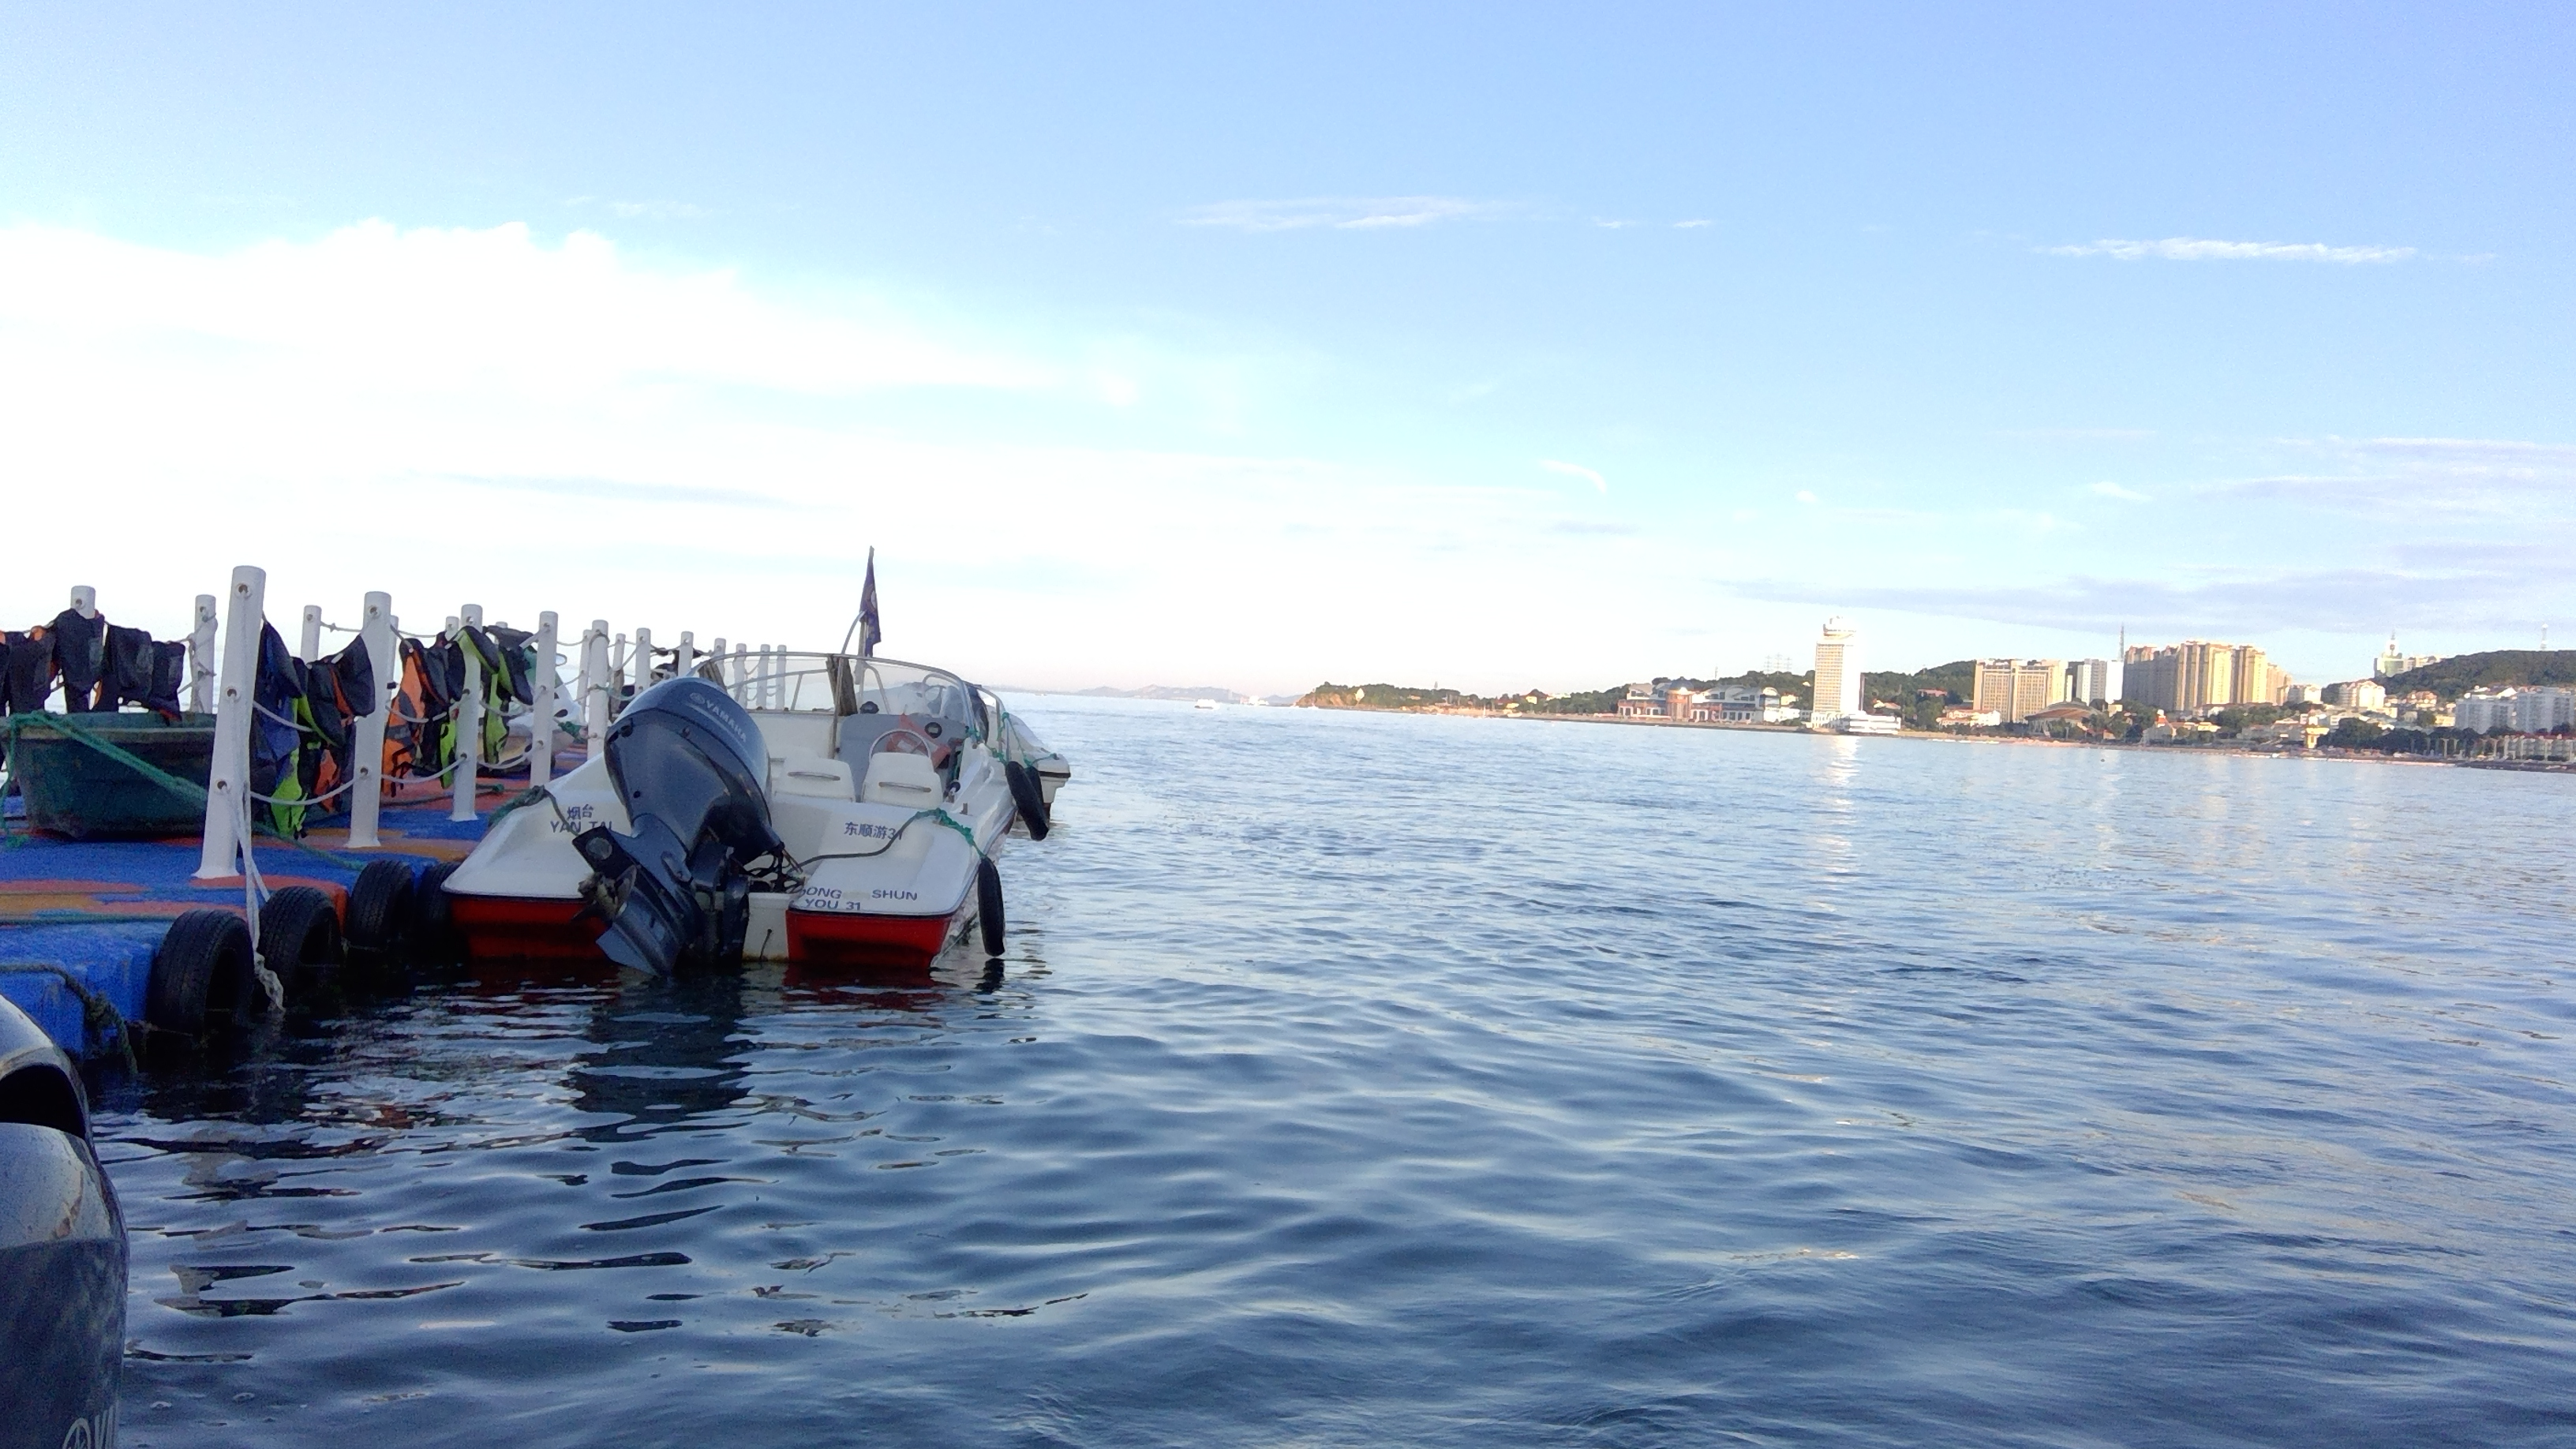boat: (435, 541, 1106, 989)
platform: (0, 495, 628, 1123)
